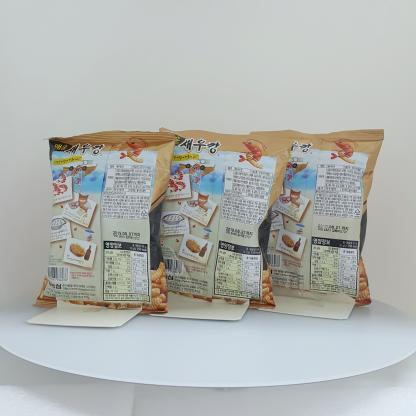Plastic Packaging: (35, 122, 165, 320), (272, 120, 386, 310), (170, 125, 276, 310)
